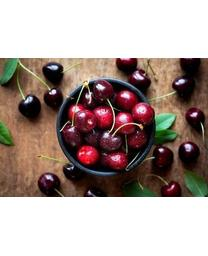cherry: (17, 94, 42, 119), (171, 76, 195, 101), (152, 146, 174, 173), (91, 79, 115, 103), (178, 141, 200, 166), (37, 172, 61, 194), (74, 110, 97, 132), (114, 90, 137, 112), (185, 107, 206, 131), (133, 104, 155, 126), (41, 62, 65, 82), (93, 107, 114, 129), (116, 112, 135, 136), (77, 145, 98, 166), (43, 88, 63, 109), (101, 131, 121, 152), (161, 181, 182, 196)
